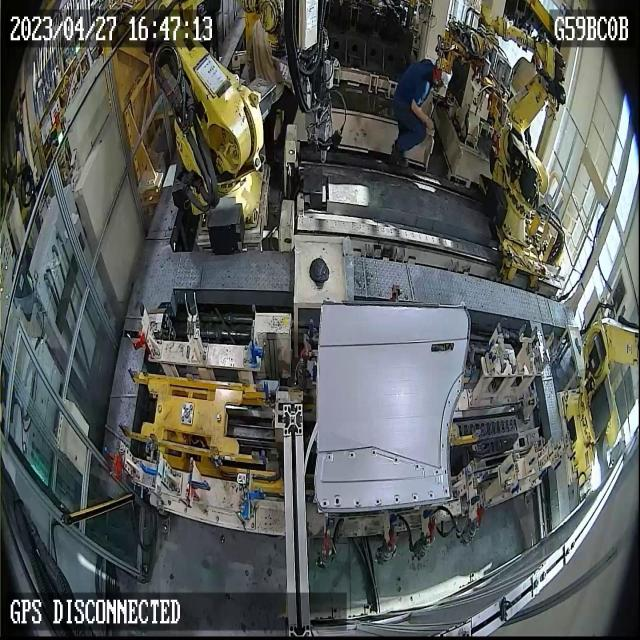Person: (389, 57, 441, 169)
